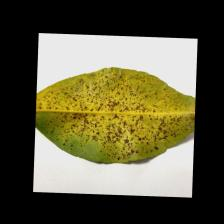canker: (70, 76, 167, 150)
